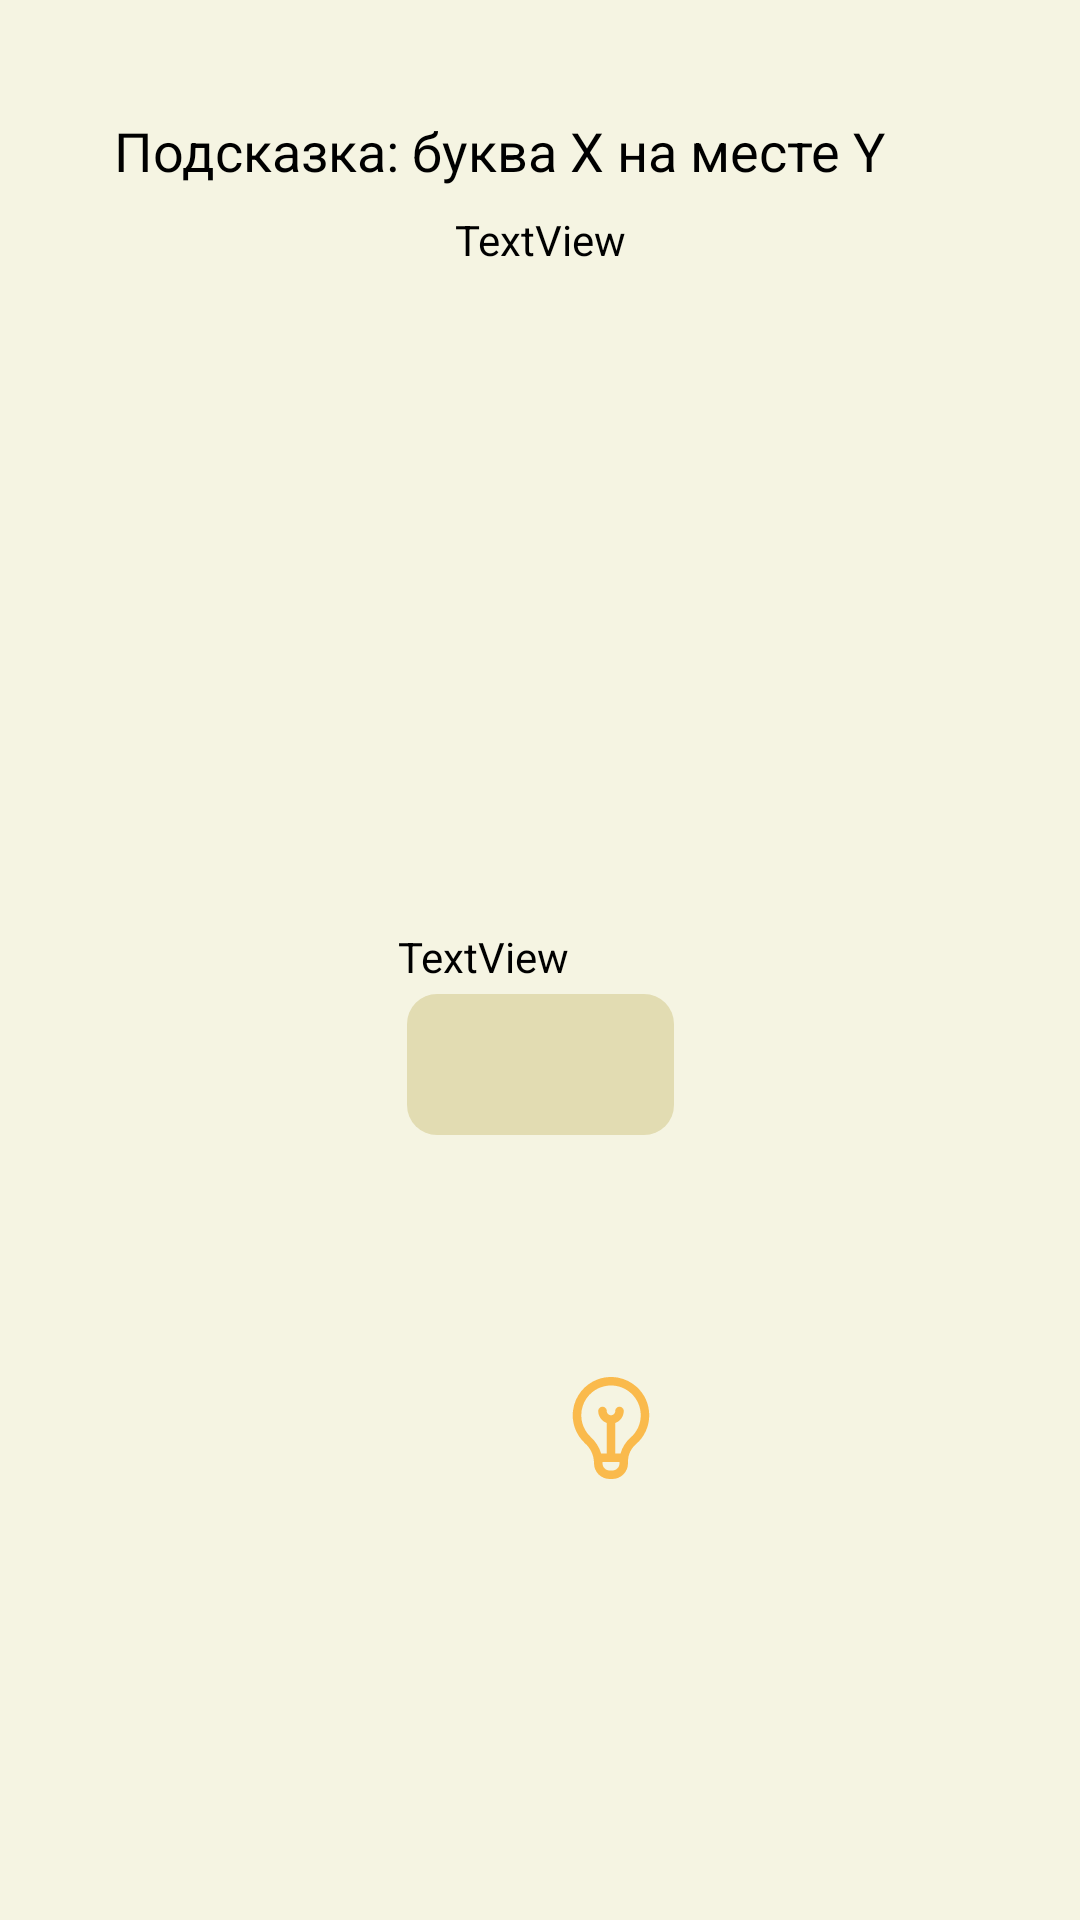

Icons on this 1080×1920 Android screen, each with the point to tap as [x,y]:
hint: [611,1428]
